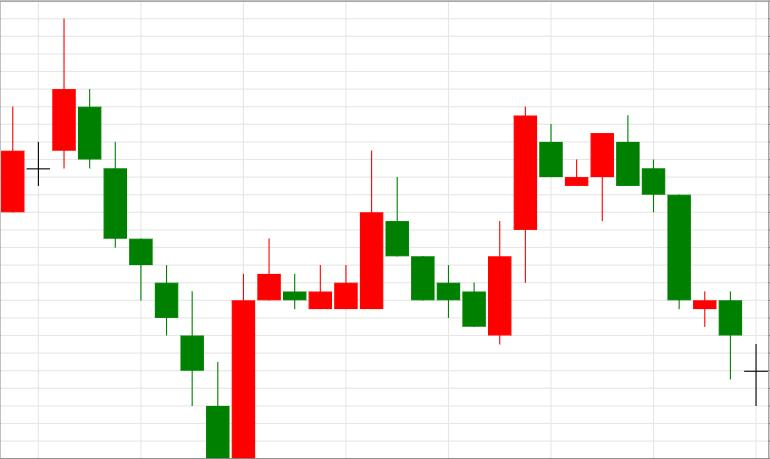bullish_engulfing_rise: (78, 88, 255, 458), (386, 176, 512, 346)
